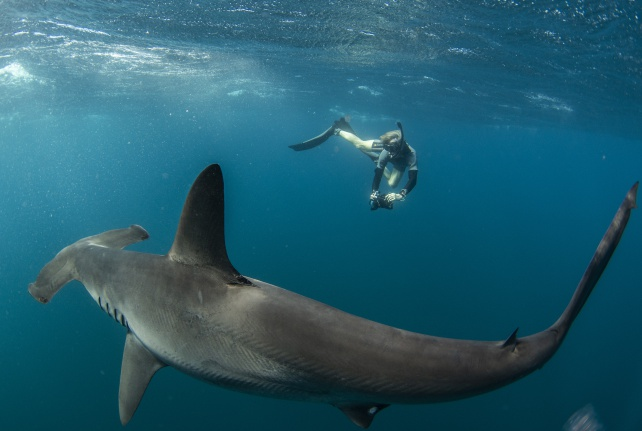Hammer: (35, 151, 642, 418)
